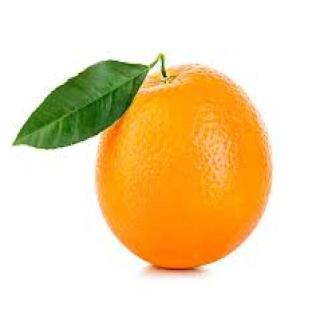orange: (69, 17, 300, 295)
